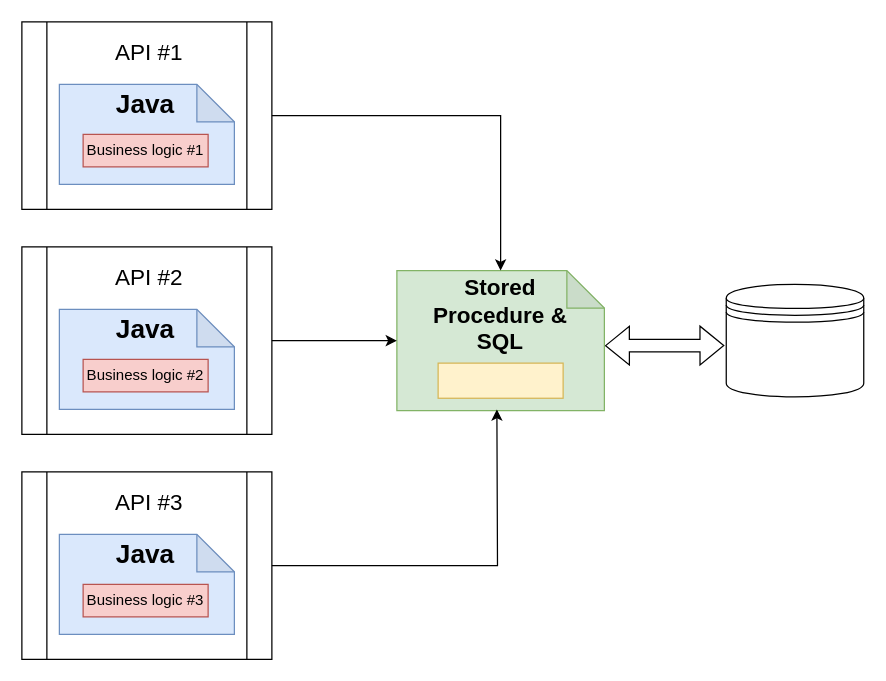
The diagram is 886 pixels wide and 681 high, and some of its shapes have lost their labels. Each missing label, with the centre of its shape:
"Data Access" goes at (x=500, y=380).
"PPE DB" goes at (x=794, y=340).
